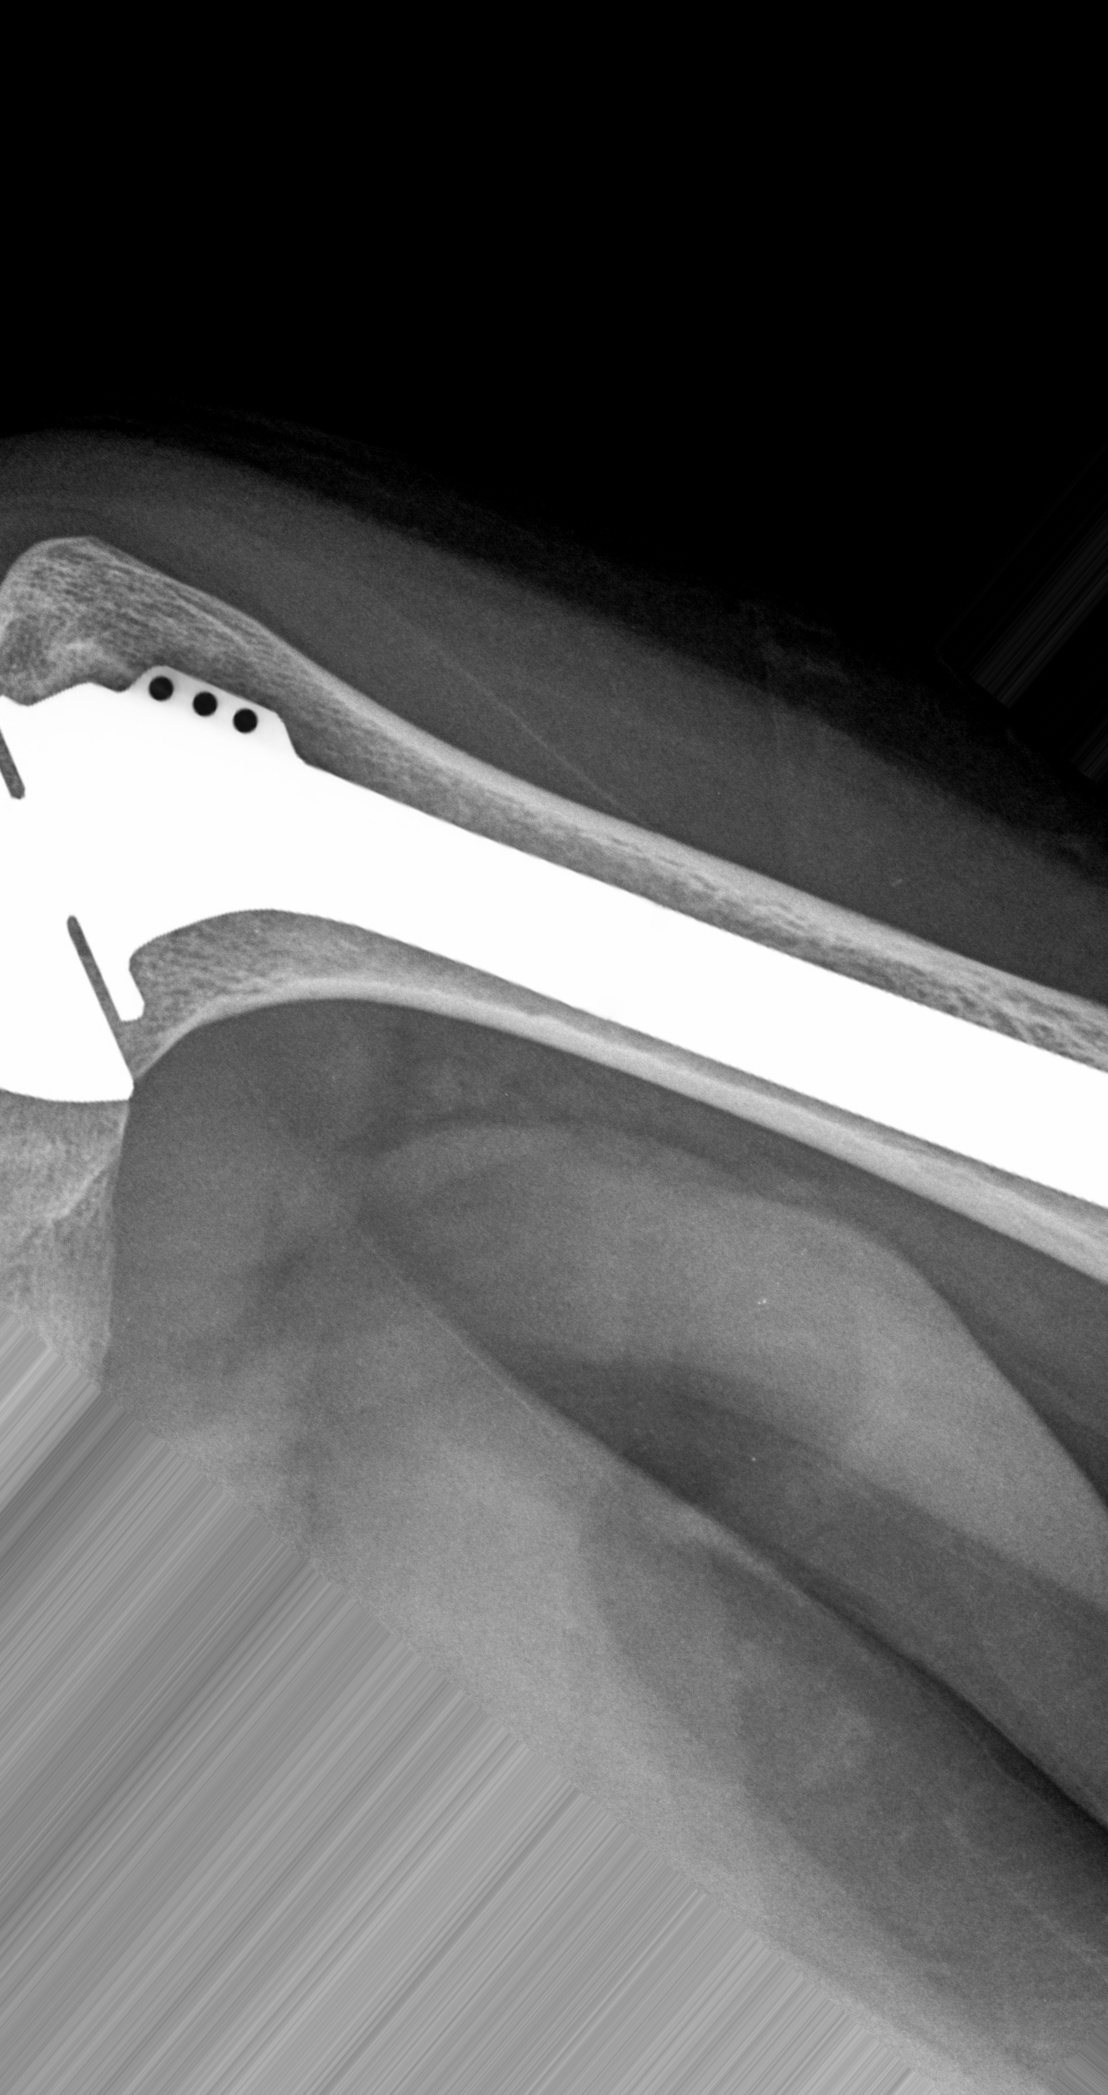Shoulder-Olympia-Wright: (3, 624, 1108, 1232)
